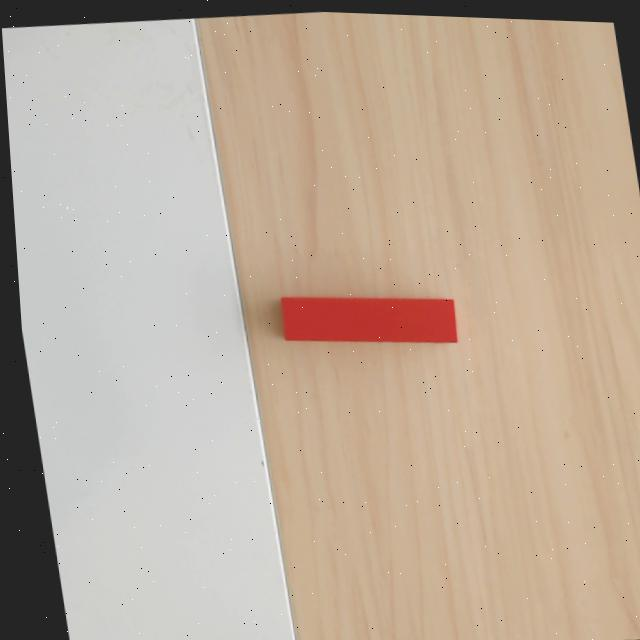Balok-Merah-1002525: (280, 296, 457, 342)
